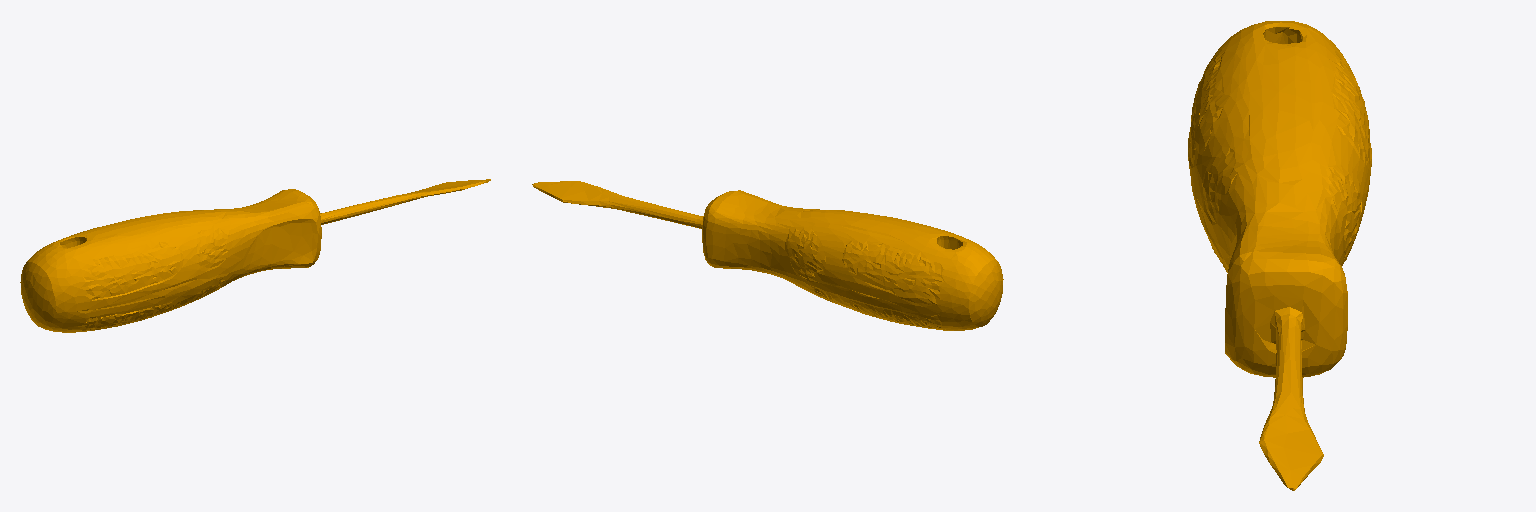
The robot description file, URDF, robot "red_screwdriver":
<?xml version="1.0"?>
<robot name="red_screwdriver">
  <link name="red_screwdriver">
    <visual>
      <origin xyz="0 0 0" rpy="0 0 0"/>
      <geometry>
        <mesh filename="red_screwdriver.obj" scale="1 1 1"/>
      </geometry>
    </visual>
    <collision>
      <origin xyz="0 0 0" rpy="0 0 0"/>
      <geometry>
        <mesh filename="red_screwdriver.obj" scale="1 1 1"/>
      </geometry>
    </collision>
    <inertial>
      <density value="400.0"/>
    </inertial>
  </link>
</robot>

--- Render facts (derived) ---
3 views of the same robot in one strip: view 1: azimuth 30°, elevation 25°; view 2: azimuth 150°, elevation 25°; view 3: azimuth 270°, elevation 25° (orthographic).
Robot: red_screwdriver — 1 links, 0 joints (none); root link red_screwdriver; default pose: every joint at zero.
Visible links, largest first — view 1: red_screwdriver; view 2: red_screwdriver; view 3: red_screwdriver.
Boxes of the visible links, <box> form: red_screwdriver: <box>20,179,490,332</box>; red_screwdriver: <box>532,181,1003,330</box>; red_screwdriver: <box>1188,21,1371,490</box>.
Bounding box of the posed robot: 0.1896 × 0.0353 × 0.0353 m (x, y, z).
1 mesh visuals loaded from 1 distinct referenced files (1 OBJ).
